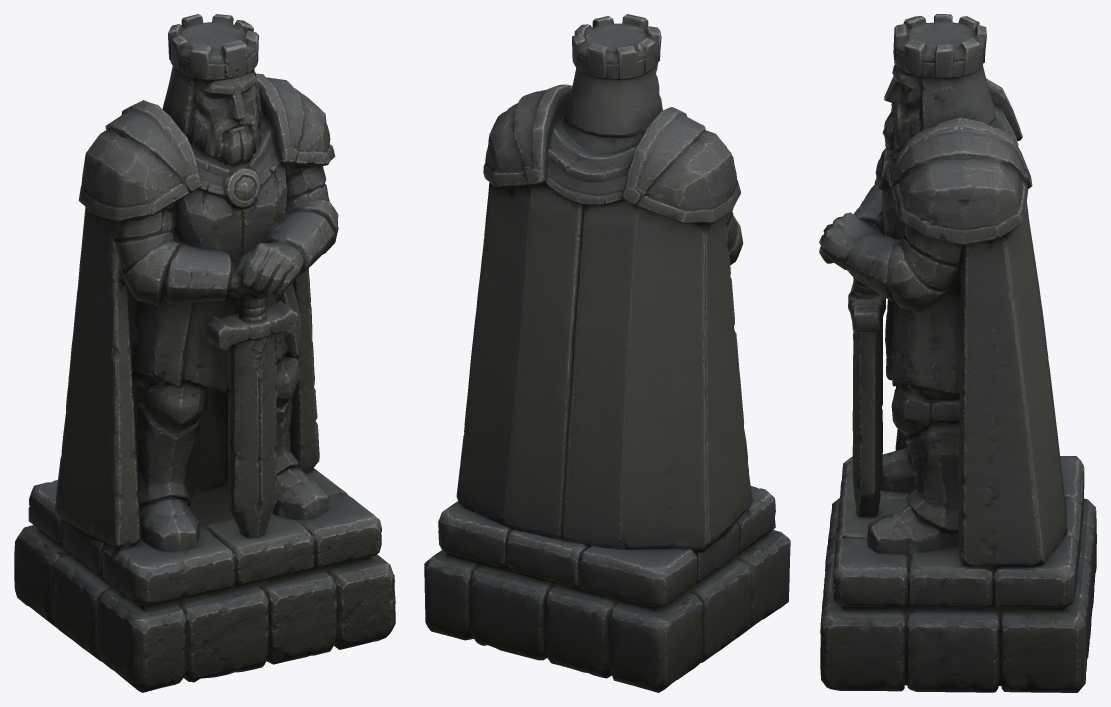
File: Statue_King.fbx
3 renders of one model, left to right at view 1: azimuth 30°, elevation 25°; view 2: azimuth 150°, elevation 25°; view 3: azimuth 270°, elevation 25°, orthographic. The views are drawn at different scales.
Parts seen in each view (by area): view 1: Statue_King; view 2: Statue_King; view 3: Statue_King.
Boxes of the visible parts, bbox=[...] form: Statue_King: bbox=[14, 14, 395, 692]; Statue_King: bbox=[424, 14, 790, 692]; Statue_King: bbox=[819, 14, 1096, 692].
Size of the model in its own units: 99.73 by 220 by 91.69.
